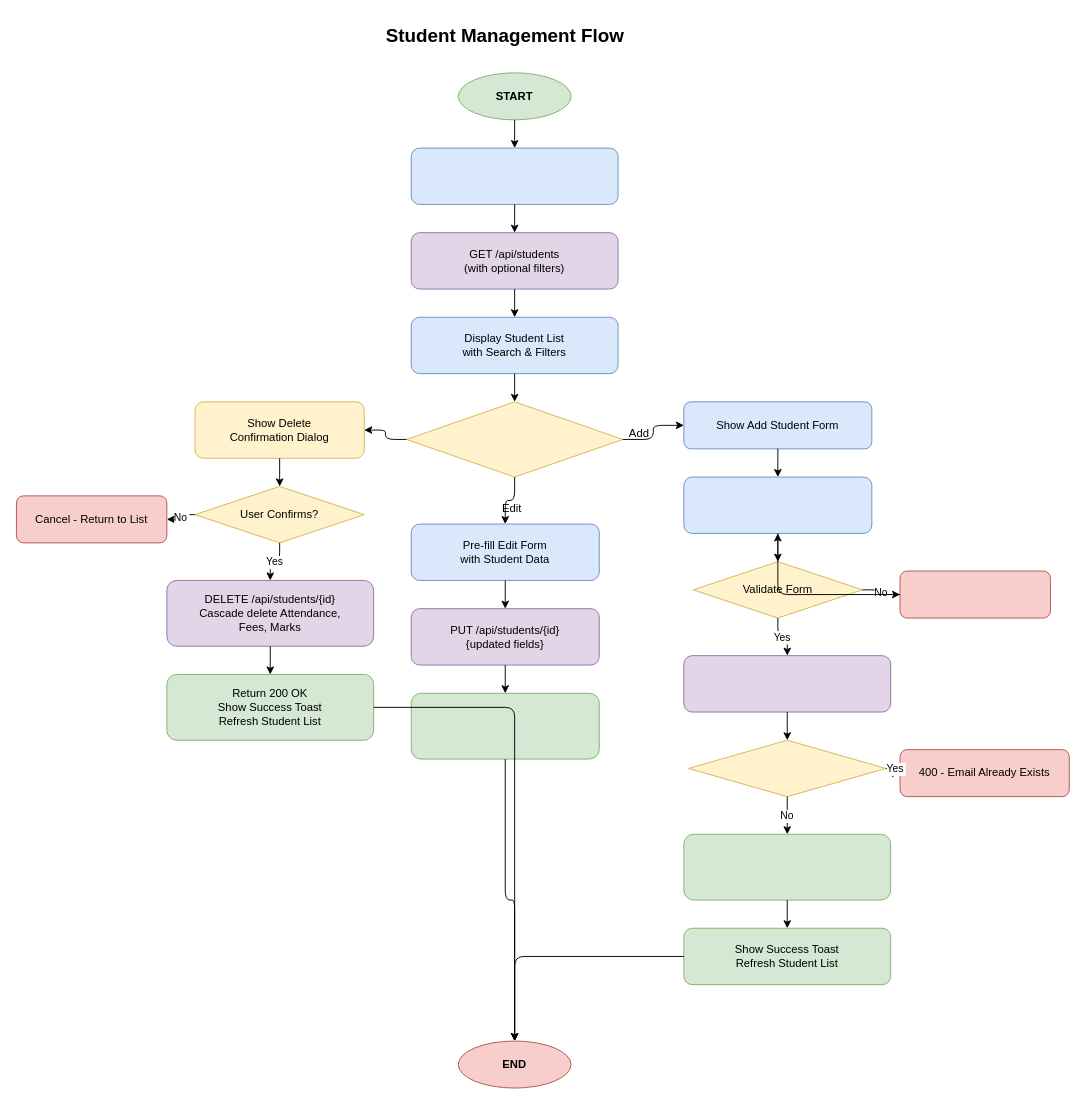
The diagram is 1086 pixels wide and 1105 high, and some of its shapes have lost their labels. The shapes that lost their labels are listed below. From the top down, each one's centre as x and y in pixels, then its label:
At [514,175]: "Navigate to Students Page (Protected Route - JWT Required)".
At [514,439]: "User Chooses Action".
At [777,504]: "Fill: Name, Email, Phone, Address, Batch, Status".
At [974,594]: "Show Error Toast".
At [787,683]: "POST /api/students {name, email, phone, address, batch_id}".
At [504,725]: "UPDATE DB Record Return 200 OK Show Success Toast".
At [787,768]: "Email Already Exists?".
At [787,866]: "Auto-generate student_code INSERT Student Record Return 201 Created".
